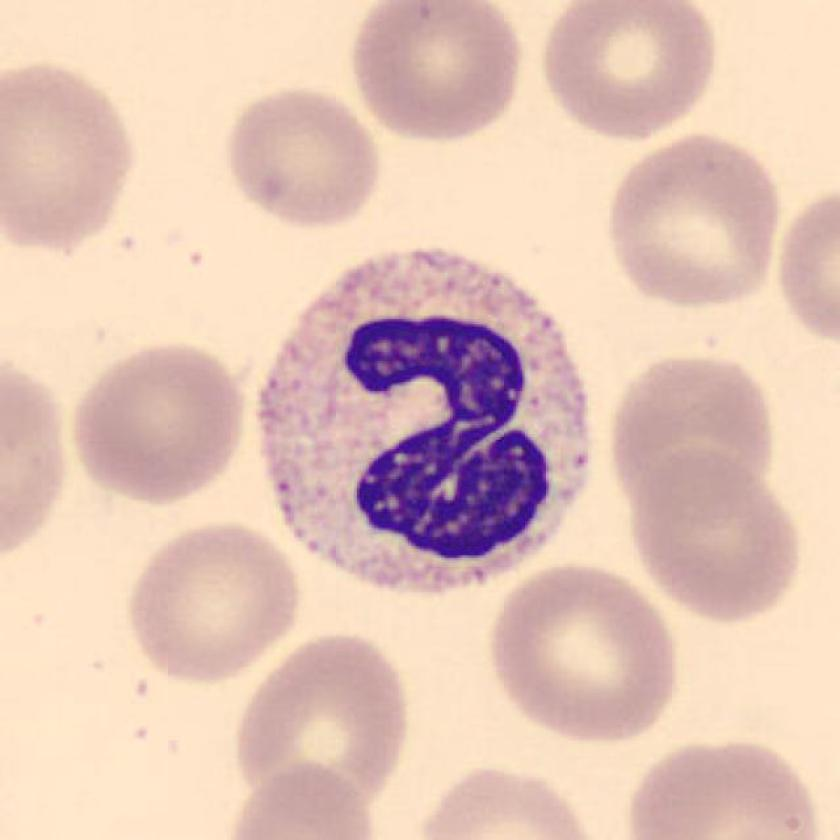neutrophil: (260, 250, 589, 588)
